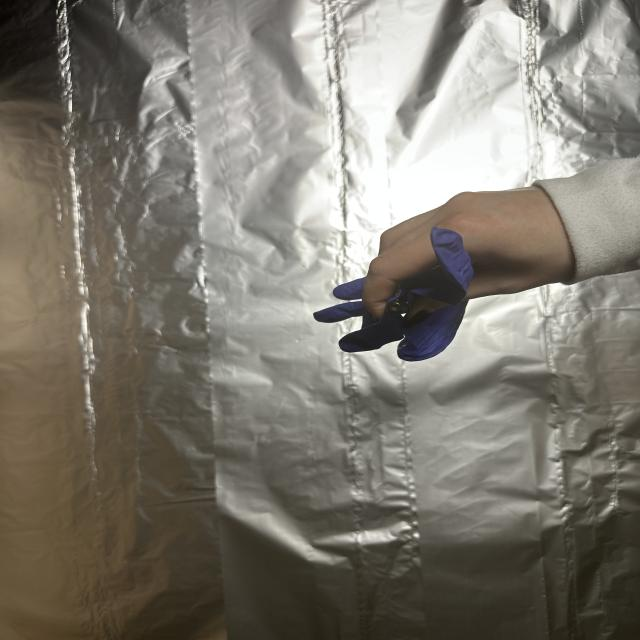glove_not_fitted: (308, 185, 582, 362)
